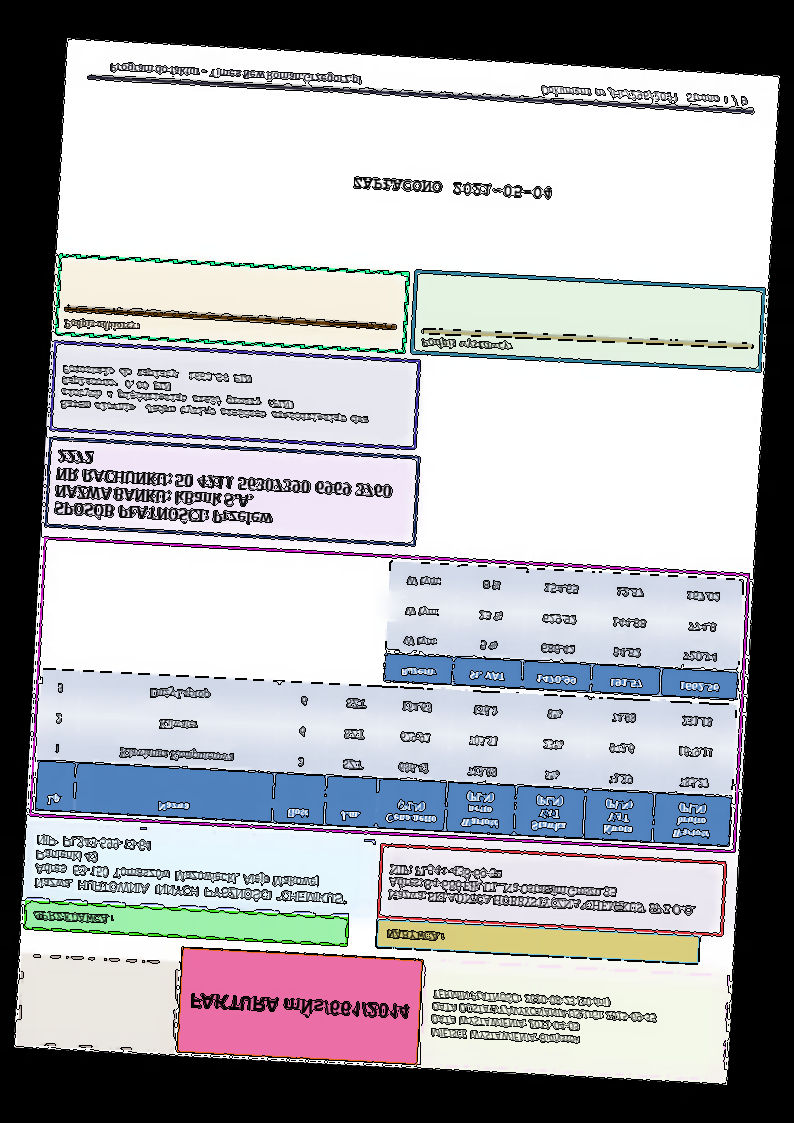Table: (34, 667, 737, 848), (382, 560, 745, 702)
TextBox: (51, 447, 394, 535), (32, 831, 352, 908), (58, 362, 373, 428), (385, 861, 700, 919), (429, 987, 659, 1051), (189, 991, 412, 1024), (108, 59, 363, 87), (351, 174, 555, 202), (538, 83, 749, 108), (419, 335, 514, 354), (62, 316, 139, 335), (32, 909, 115, 926), (383, 927, 446, 943)
